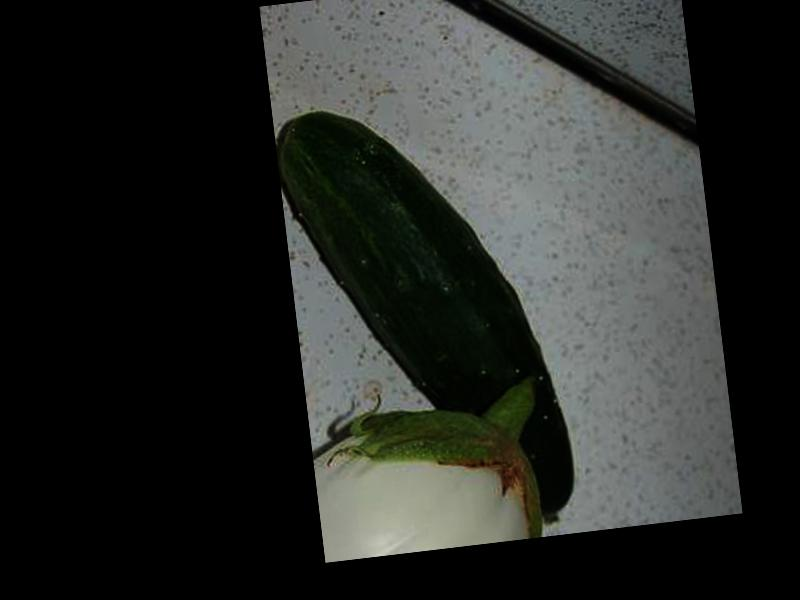Cucumber: (272, 88, 578, 550)
